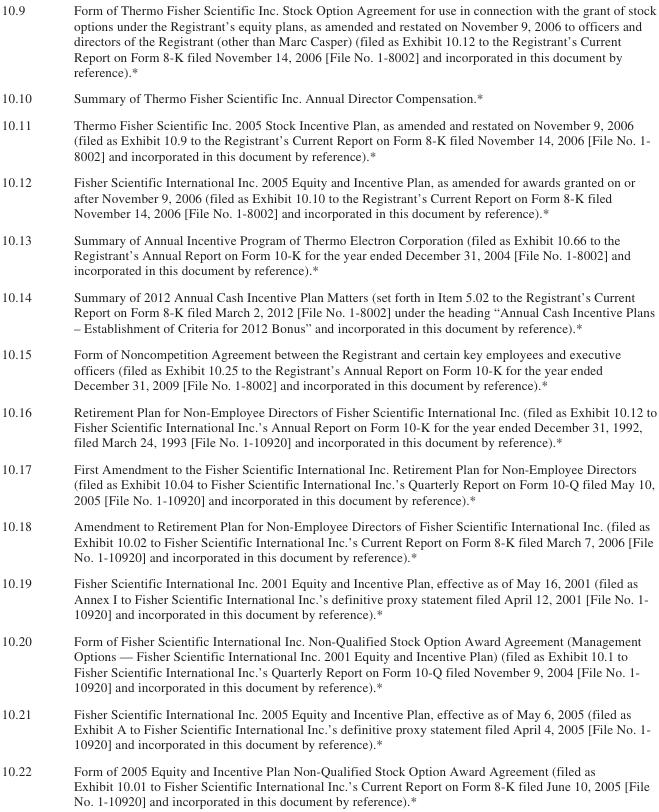table: (0, 0, 656, 809)
table column: (51, 0, 656, 809), (0, 0, 51, 809)
table row: (0, 0, 656, 84), (0, 626, 656, 699), (0, 167, 656, 225), (0, 339, 656, 397), (0, 568, 656, 626), (0, 110, 656, 167), (0, 225, 656, 282), (0, 282, 656, 339), (0, 397, 656, 454), (0, 454, 656, 511), (0, 511, 656, 568), (0, 699, 656, 756), (0, 756, 656, 809), (0, 84, 656, 110)
